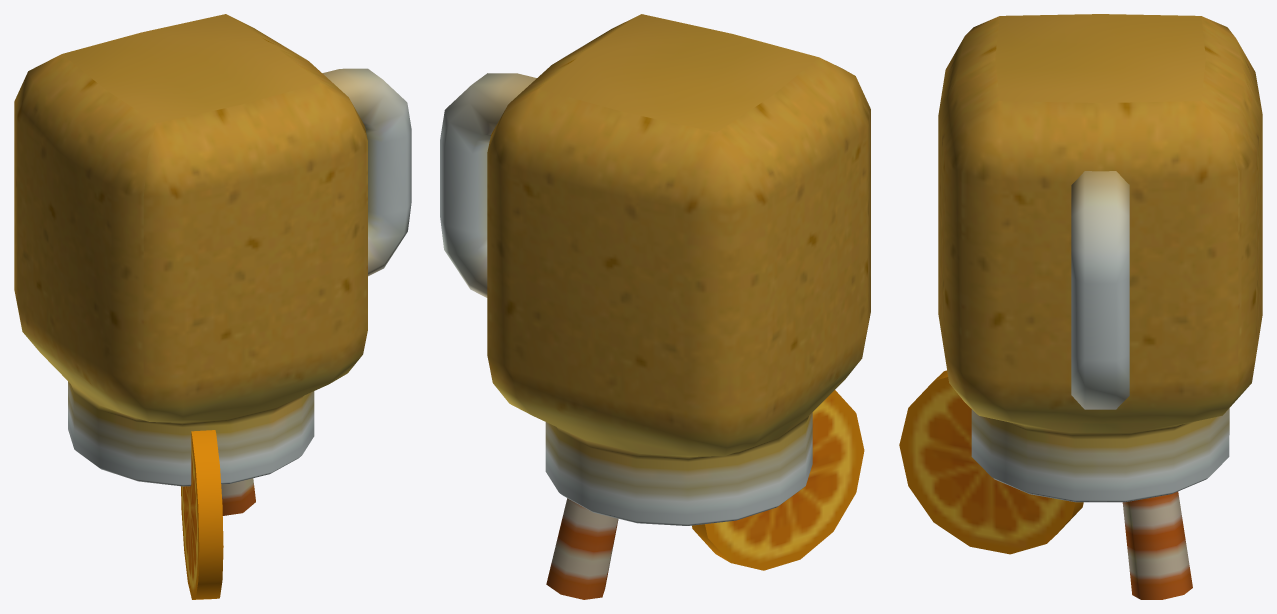
File: ToolDrinkSmoothie.glb
3 renders of one model, left to right at view 1: azimuth 30°, elevation 25°; view 2: azimuth 150°, elevation 25°; view 3: azimuth 270°, elevation 25°, orthographic. The views are drawn at different scales.
Visible parts, largest first — view 1: Body__mTool; view 2: Body__mTool; view 3: Body__mTool.
Part boxes in pixels (x1,y1,x2,y2): Body__mTool: [14, 14, 411, 599]; Body__mTool: [440, 14, 870, 599]; Body__mTool: [899, 14, 1262, 599].
Bounding box in the file's own units: 2.47 × 3.26 × 2.12.
Materials: 1 (1 with a texture image).
